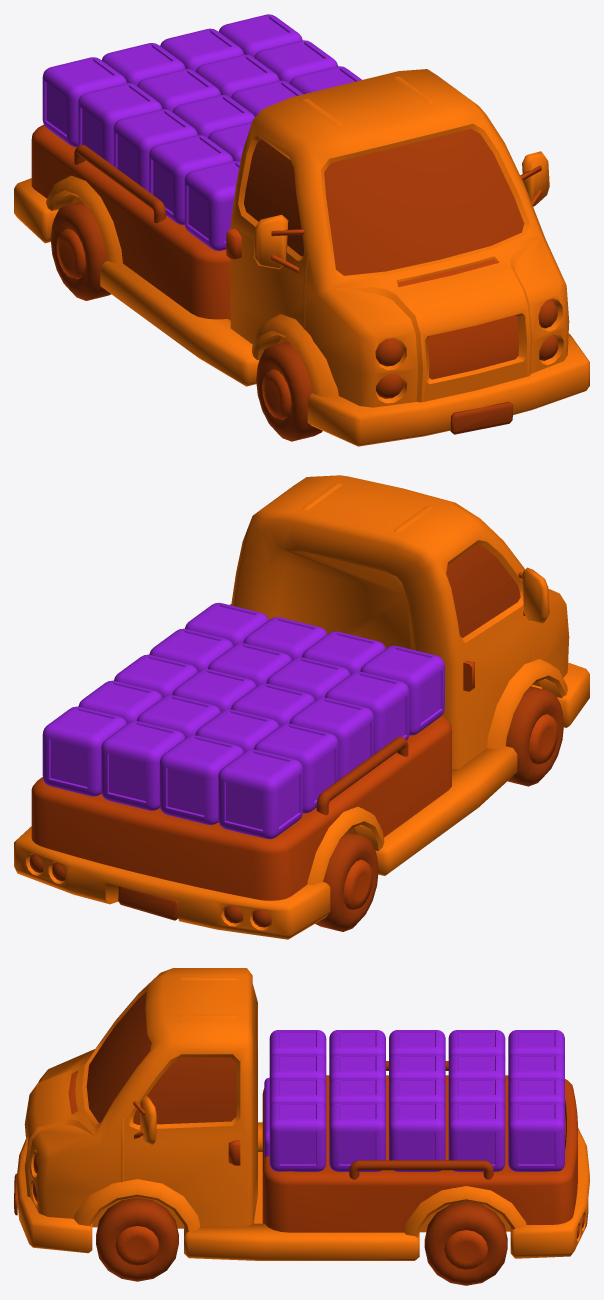
File: Orange-Truck.fbx
The picture shows the model from 3 angles, top to bottom: view 1: azimuth 30°, elevation 25°; view 2: azimuth 150°, elevation 25°; view 3: azimuth 270°, elevation 25°; orthographic projection. The views are drawn at different scales.
Visible parts, largest first — view 1: Truck, Till, Wheel_2A_R.R, Box.002, Box.018, Box.017, Box.009, Box.010, Box.005, Box.006, Box.007, Box.003 (+7 smaller); view 2: Truck, Till, Wheel_2A_R.R, Box.002, Box.003, Box.005, Box.004, Box.018, Box.009, Box.017, Box.010, Box.007 (+12 smaller); view 3: Truck, Till, Wheel_2A_R.R, Box.021, Box.005, Box.014, Box.006, Box.013, Handle_02, Box.007, Box.008, Box.009 (+13 smaller).
Boxes of the visible parts, x1,y1,x2,y2 form: Truck: (14, 69, 589, 446); Till: (31, 124, 230, 320); Wheel_2A_R.R: (50, 201, 322, 441); Box.002: (42, 57, 126, 146); Box.018: (184, 161, 240, 250); Box.017: (149, 135, 233, 224); Box.009: (78, 83, 162, 165); Box.010: (113, 109, 197, 191); Box.005: (218, 14, 302, 57); Box.006: (254, 40, 337, 83); Box.007: (195, 54, 279, 97); Box.003: (102, 43, 185, 85); Truck: (14, 475, 589, 939); Till: (31, 715, 451, 900); Wheel_2A_R.R: (315, 686, 563, 931); Box.002: (218, 749, 302, 839); Box.003: (159, 735, 243, 824); Box.005: (42, 706, 126, 796); Box.004: (101, 721, 185, 810); Box.018: (360, 645, 444, 735); Box.009: (254, 723, 338, 813); Box.017: (325, 671, 409, 753); Box.010: (289, 697, 373, 779); Box.007: (137, 695, 220, 737); Truck: (14, 968, 589, 1260); Till: (262, 1075, 577, 1232); Wheel_2A_R.R: (96, 1197, 507, 1285); Box.021: (269, 1102, 326, 1171); Box.005: (508, 1102, 564, 1171); Box.014: (329, 1102, 385, 1171); Box.006: (448, 1102, 505, 1171); Box.013: (389, 1102, 445, 1171); Handle_02: (349, 1160, 493, 1179); Box.007: (448, 1078, 505, 1109); Box.008: (448, 1054, 505, 1085); Box.009: (448, 1030, 505, 1061).
Size of the model in its own units: 2.76 by 2.48 by 5.56.
